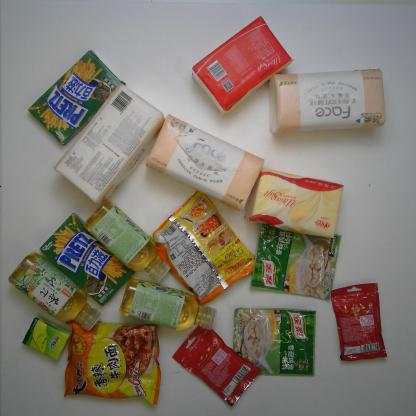Candy: (171, 320, 262, 408), (330, 283, 388, 362)
Dessert: (27, 50, 127, 146), (38, 212, 135, 308)
Drink: (7, 251, 103, 334), (82, 198, 171, 285), (118, 274, 218, 332)
Instant Noodles: (151, 189, 257, 306), (62, 319, 163, 408)
Seasoner: (250, 223, 341, 302), (232, 307, 317, 377)
Tissue: (53, 82, 166, 205), (144, 113, 265, 212), (191, 16, 294, 113), (267, 68, 387, 135), (243, 167, 344, 239), (16, 314, 78, 370)
